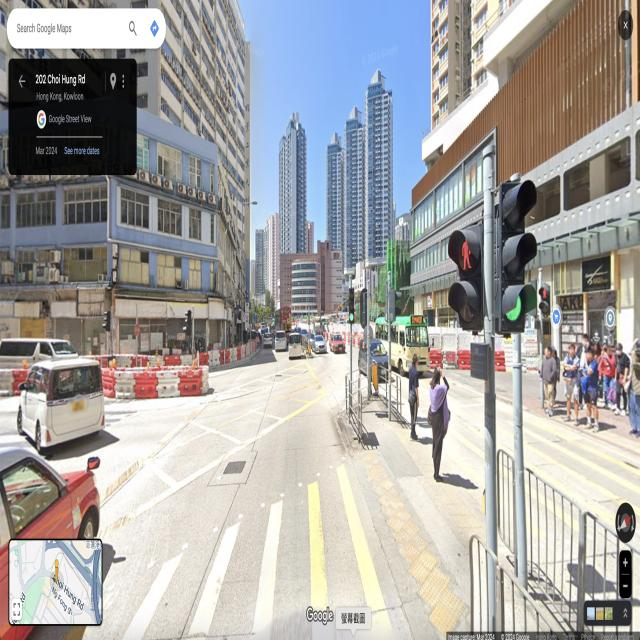Order-Sign: (245, 316, 249, 328), (245, 302, 249, 312), (308, 343, 310, 348)
